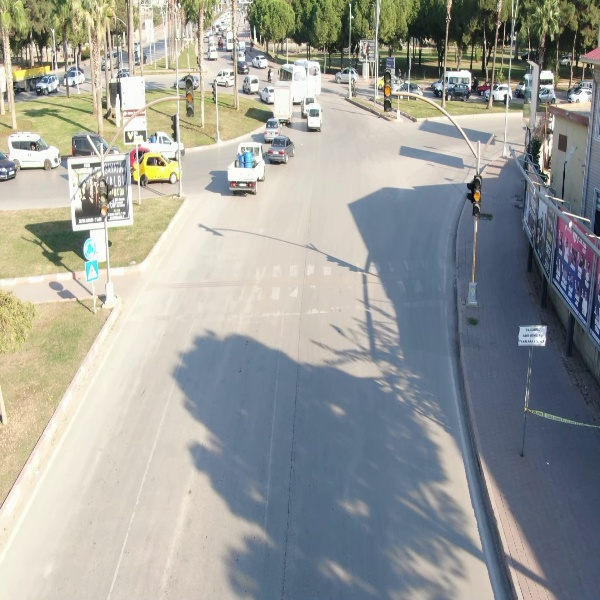car: (4, 130, 67, 170), (129, 152, 184, 189), (264, 134, 300, 168), (437, 80, 471, 108), (483, 80, 511, 108), (34, 73, 64, 98), (303, 104, 327, 135), (62, 69, 89, 88), (211, 68, 236, 88), (331, 65, 360, 82), (239, 75, 262, 96), (264, 118, 281, 143), (250, 54, 268, 73), (206, 44, 220, 65)
